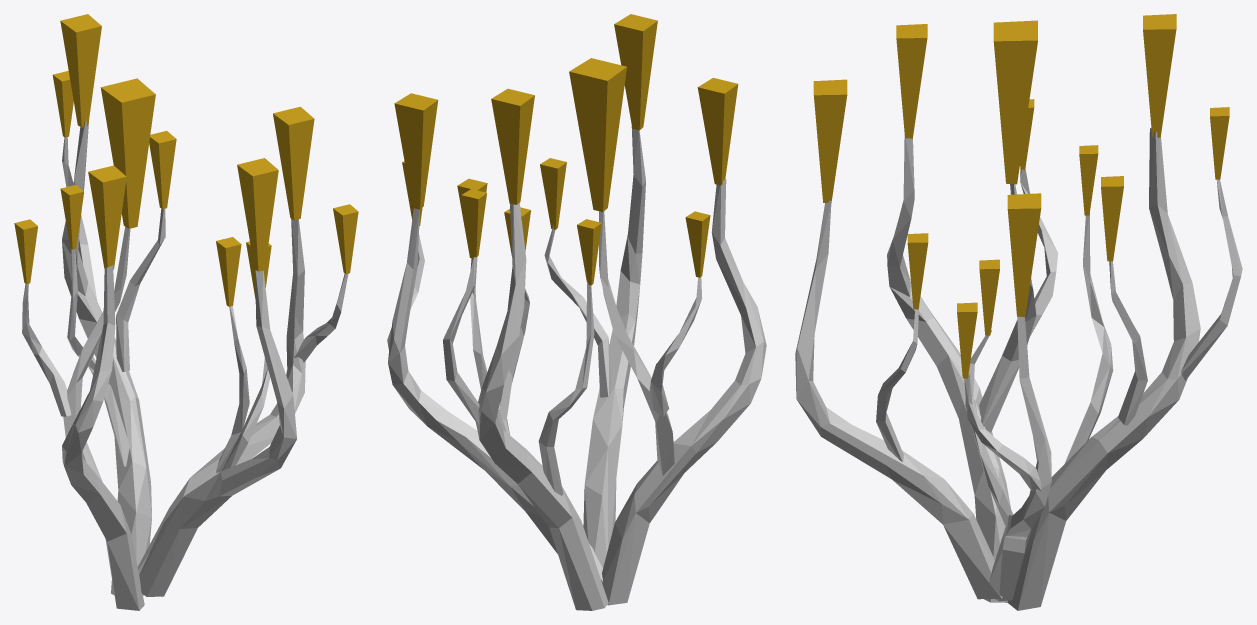
File: V_organ bush.fbx
3 views of the same model, side by side, from view 1: azimuth 30°, elevation 25°; view 2: azimuth 150°, elevation 25°; view 3: azimuth 270°, elevation 25° (orthographic). The views are drawn at different scales.
Visible parts, largest first — view 1: NurbsPath.047, light.005, light.001, light.003, light.007, light.004, light.008, light.010, light.011, light.009, light.012, light.006; view 2: NurbsPath.047, light.005, light.007, light.003, light.001, light.004, light.002, light.006, light.012, light.009, light.008; view 3: NurbsPath.047, light.005, light.007, light.001, light.003, light.004, light.008, light.002, light.010, light.011, light.006, light.009.
Boxes of the visible parts, <box> form: NurbsPath.047: <box>22,121,348,610</box>; light.005: <box>100,78,155,228</box>; light.001: <box>237,158,278,271</box>; light.003: <box>60,14,101,127</box>; light.007: <box>273,106,314,220</box>; light.004: <box>88,165,126,269</box>; light.008: <box>149,130,176,209</box>; light.010: <box>333,204,358,273</box>; light.011: <box>216,237,241,306</box>; light.009: <box>60,185,83,249</box>; light.012: <box>14,219,37,283</box>; light.006: <box>52,71,73,137</box>; NurbsPath.047: <box>387,126,766,610</box>; light.005: <box>569,58,626,211</box>; light.007: <box>394,93,438,209</box>; light.003: <box>491,88,534,204</box>; light.001: <box>614,14,657,130</box>; light.004: <box>697,77,738,185</box>; light.002: <box>540,158,566,229</box>; light.006: <box>461,189,486,257</box>; light.012: <box>685,211,710,277</box>; light.009: <box>577,219,601,285</box>; light.008: <box>457,178,487,258</box>; NurbsPath.047: <box>795,128,1242,610</box>; light.005: <box>993,20,1037,184</box>; light.007: <box>1007,193,1041,316</box>; light.001: <box>813,79,847,202</box>; light.003: <box>1143,14,1176,137</box>; light.004: <box>896,24,927,138</box>; light.008: <box>1101,176,1123,261</box>; light.002: <box>907,233,928,309</box>; light.010: <box>957,302,977,378</box>; light.011: <box>979,259,999,335</box>; light.006: <box>1210,107,1229,179</box>; light.009: <box>1079,145,1098,215</box>.
Bounding box in the file's own units: 1.08 × 1.74 × 1.2.
